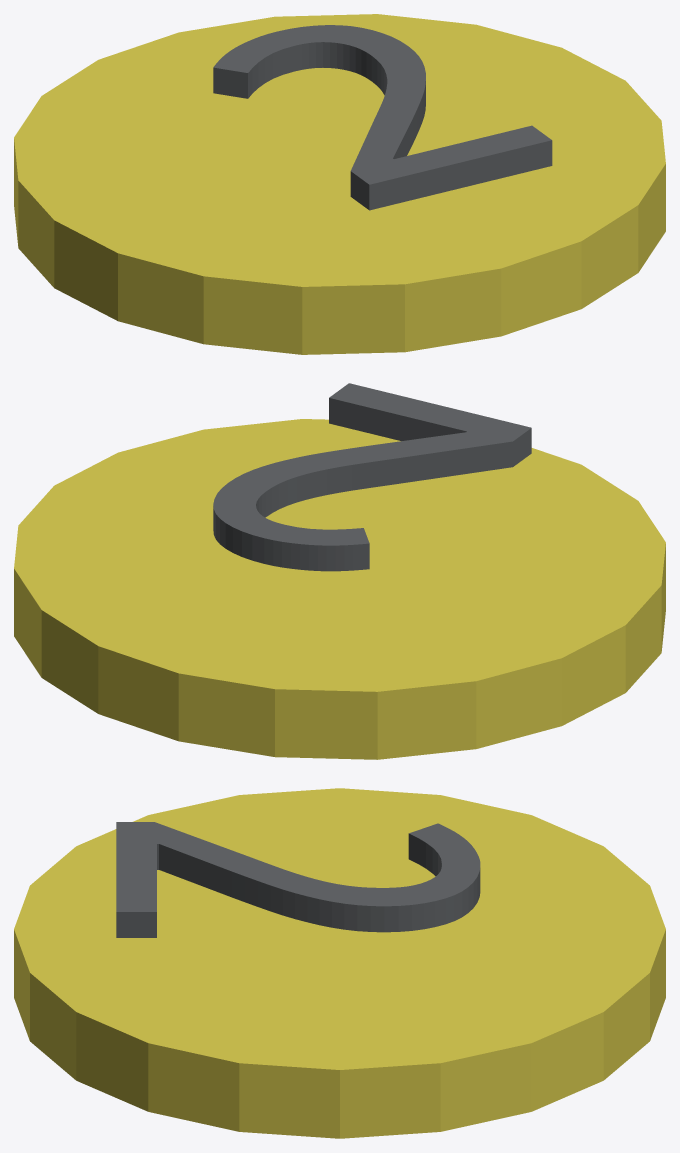
File: 2yellow.gltf
The picture shows the model from 3 angles, top to bottom: view 1: azimuth 30°, elevation 25°; view 2: azimuth 150°, elevation 25°; view 3: azimuth 270°, elevation 25°; orthographic projection.
Visible parts, largest first — view 1: Mesh_Mesh_head_geo001_lambert2SG001; view 2: Mesh_Mesh_head_geo001_lambert2SG001; view 3: Mesh_Mesh_head_geo001_lambert2SG001.
Part boxes in pixels (x1,y1,x2,y2): Mesh_Mesh_head_geo001_lambert2SG001: [14, 14, 665, 354]; Mesh_Mesh_head_geo001_lambert2SG001: [14, 383, 665, 759]; Mesh_Mesh_head_geo001_lambert2SG001: [14, 788, 665, 1138].
Size of the model in its own units: 176 by 39.56 by 172.
